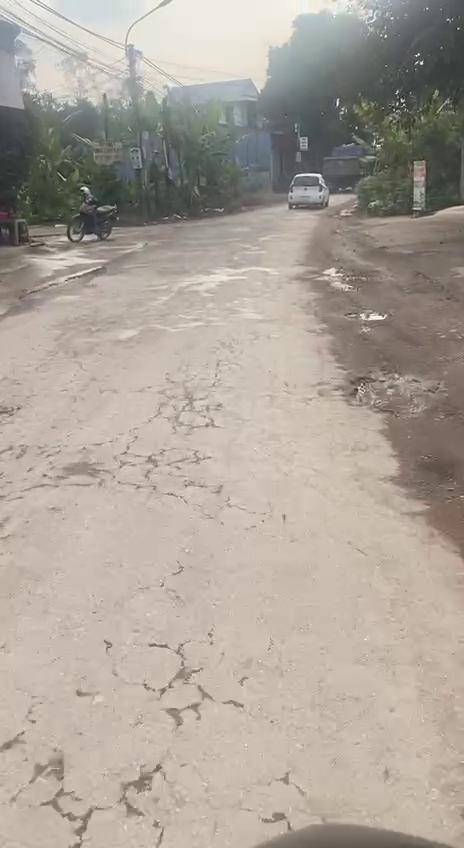pothole: (332, 365, 452, 414), (373, 449, 464, 508), (17, 266, 116, 300), (320, 268, 367, 292), (342, 307, 392, 324)
